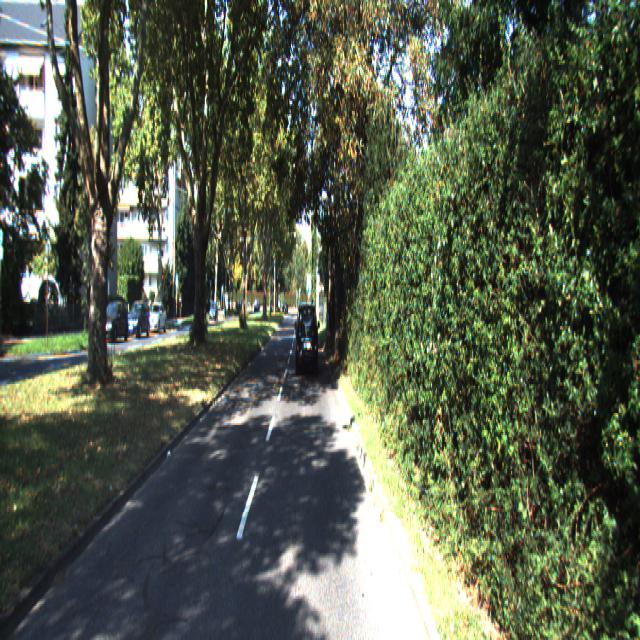Car: (296, 302, 318, 377), (97, 302, 130, 345), (125, 303, 151, 342), (145, 302, 167, 336)
